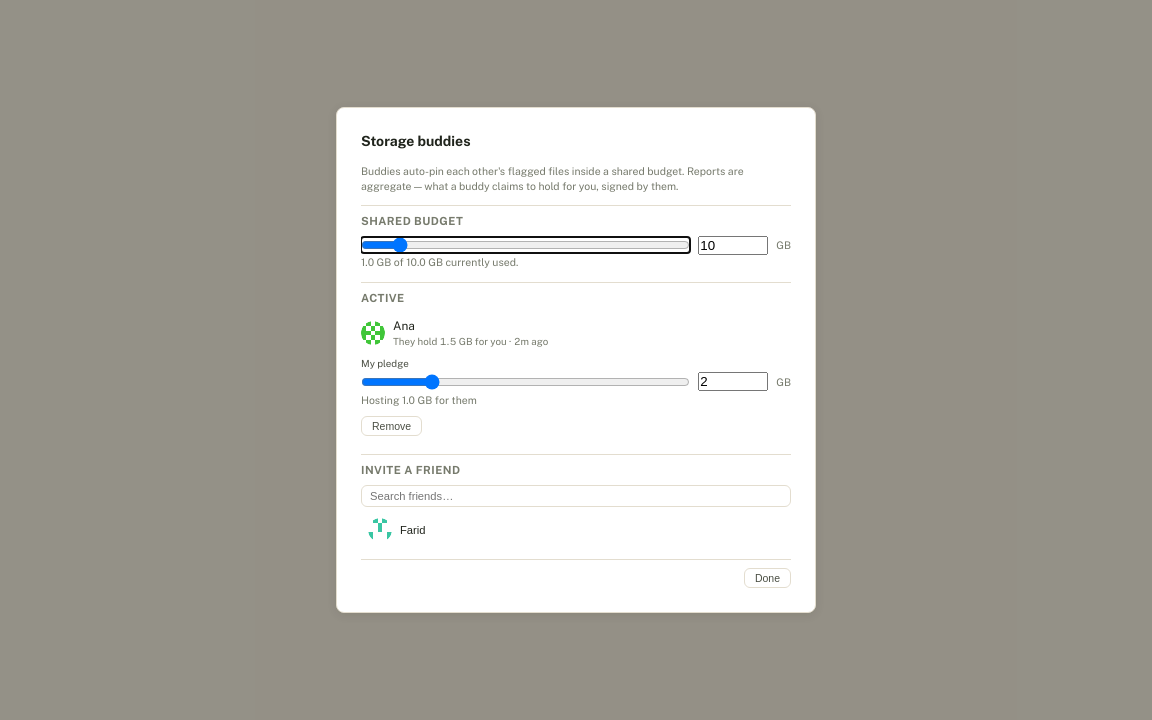
Test: StorageBuddySheet › invite picker excludes existing buddies and filters by search
In the search field with test id "invite-search": (576, 496) [361,485,791,507], type "zzz"
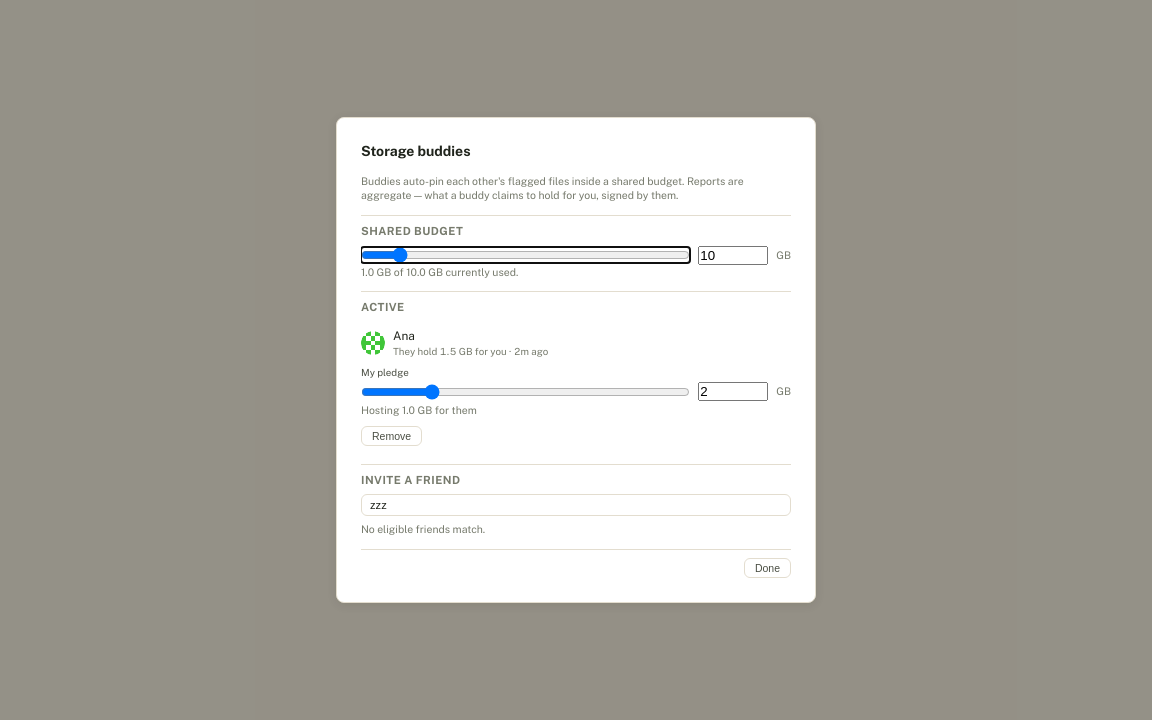
Result: the text "No eligible friends match." is shown at [361,523,485,535]
